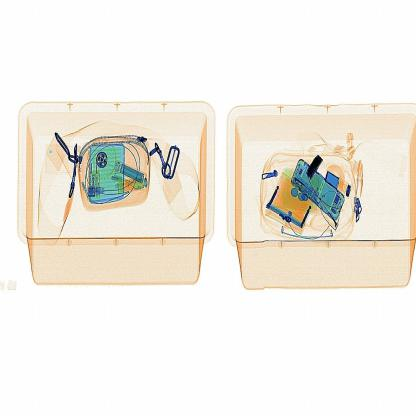scissors: (302, 148, 335, 190)
